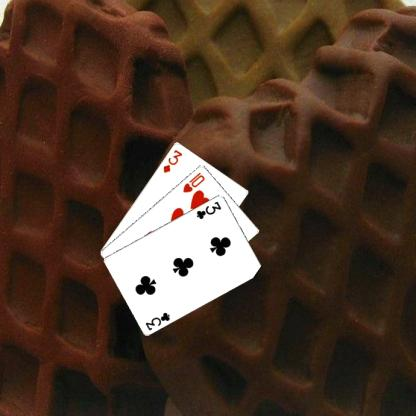10H: (180, 170, 206, 194)
3C: (143, 309, 171, 332), (194, 198, 223, 220)
3D: (160, 147, 184, 174)
